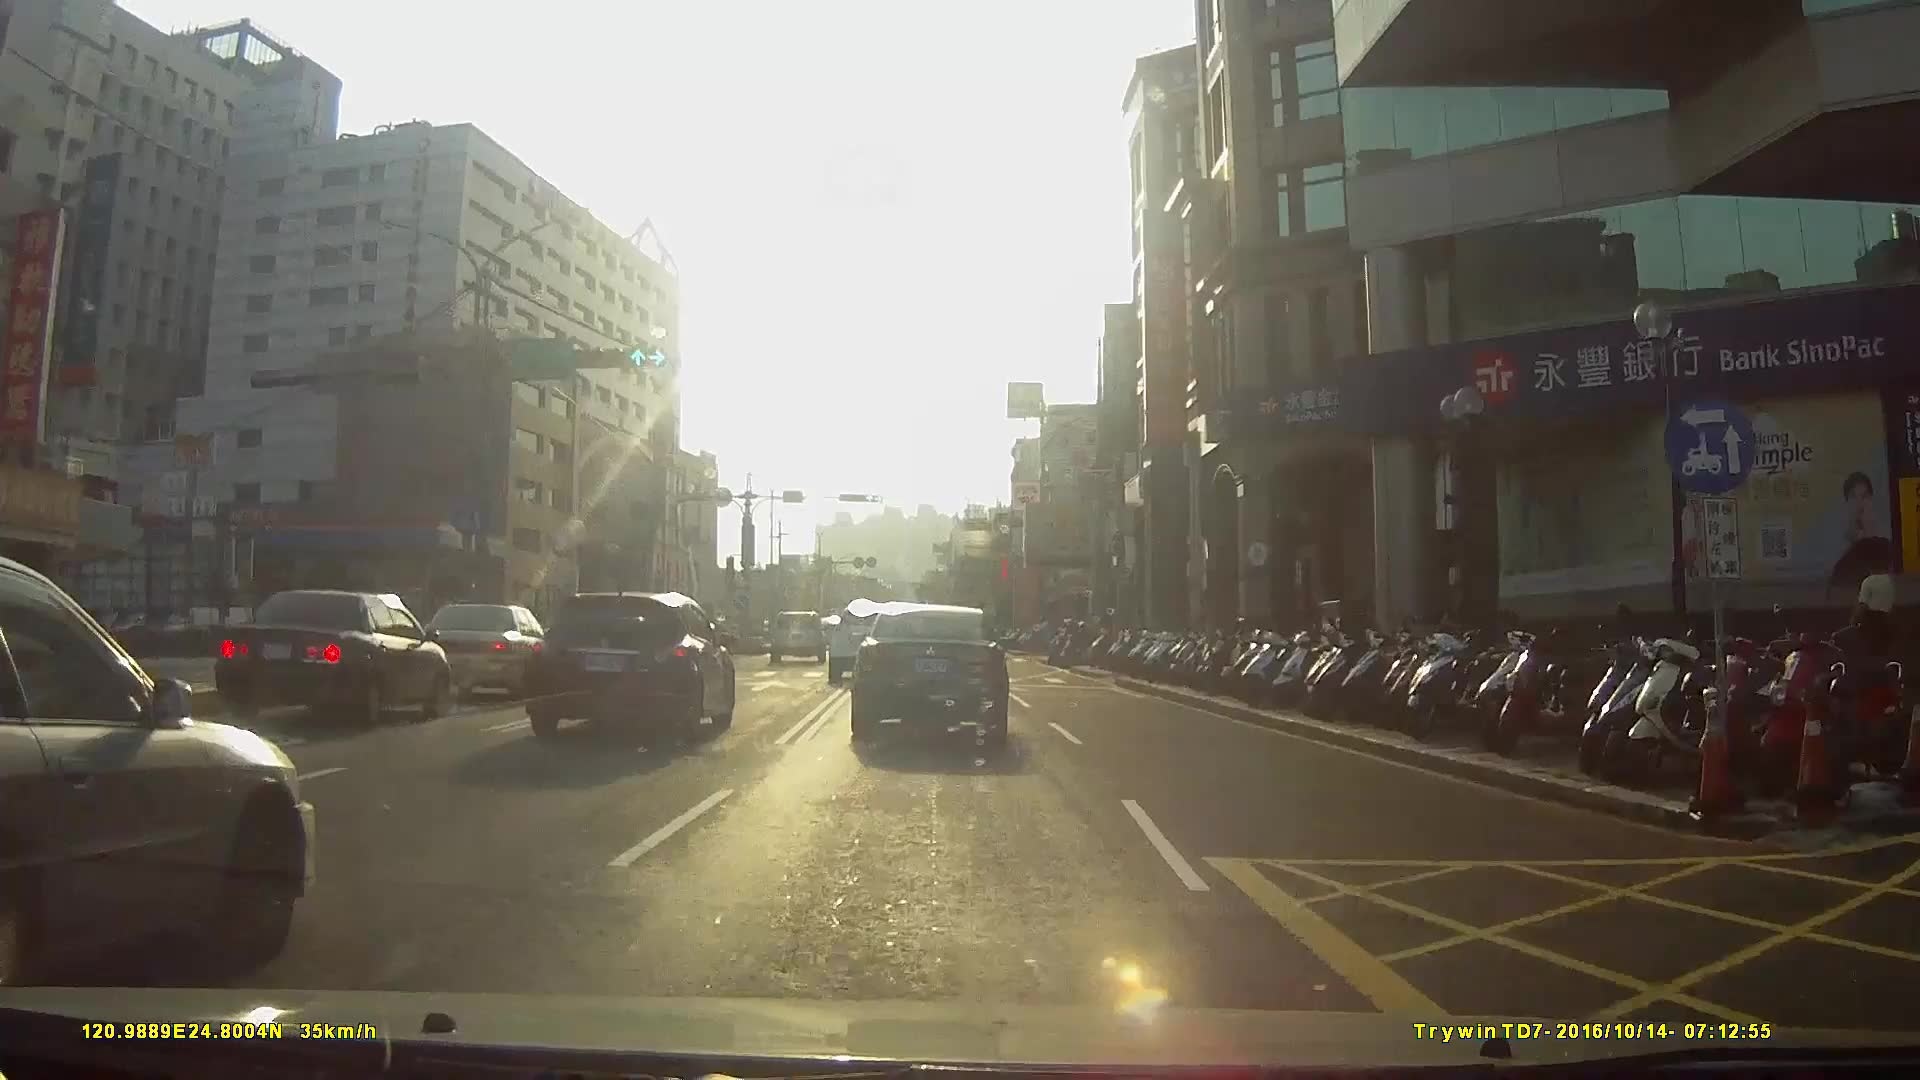pedestrian: (1852, 551, 1898, 673)
rider: (1057, 620, 1099, 668)
vehicle: (1, 549, 331, 1005), (194, 584, 461, 735), (516, 585, 751, 740), (846, 601, 1021, 747), (406, 597, 565, 698), (823, 598, 902, 682), (763, 607, 822, 662)
